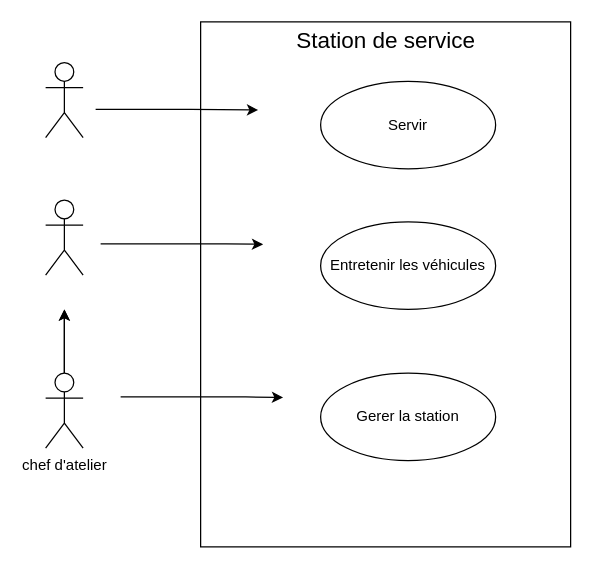
Image size: 593x569. Some labels were removed from this diagram. The shapes that lost their labels are listed below. From the top down, each one's centre as x and y in pixels, then its label:
point (63, 99): Client
point (63, 237): Mécanitien
